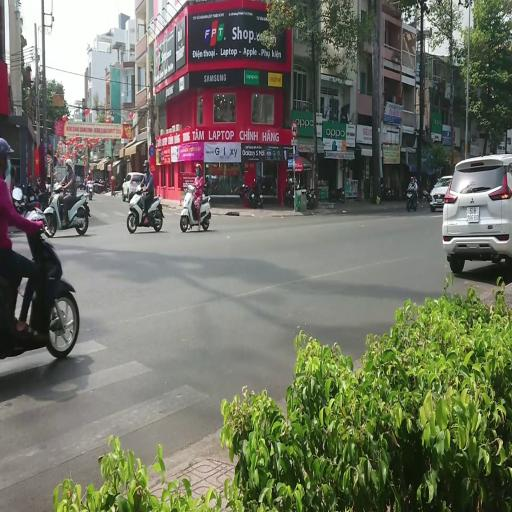bikes: (0, 206, 79, 359), (10, 180, 56, 238), (43, 182, 90, 237), (126, 185, 164, 233), (180, 182, 211, 232), (284, 178, 315, 209), (10, 182, 40, 214), (242, 177, 263, 208), (11, 183, 26, 214), (284, 177, 299, 206), (406, 186, 418, 211), (231, 182, 250, 196), (329, 187, 345, 202), (94, 177, 108, 193), (381, 184, 394, 200), (84, 180, 94, 200), (306, 188, 316, 208), (422, 188, 432, 201)
helmet: (0, 137, 14, 159), (12, 186, 23, 202), (65, 158, 73, 170), (143, 160, 149, 172), (196, 163, 202, 175), (54, 182, 60, 191), (36, 174, 41, 184), (111, 176, 115, 180), (411, 176, 414, 181), (88, 170, 91, 174), (254, 178, 256, 184)
